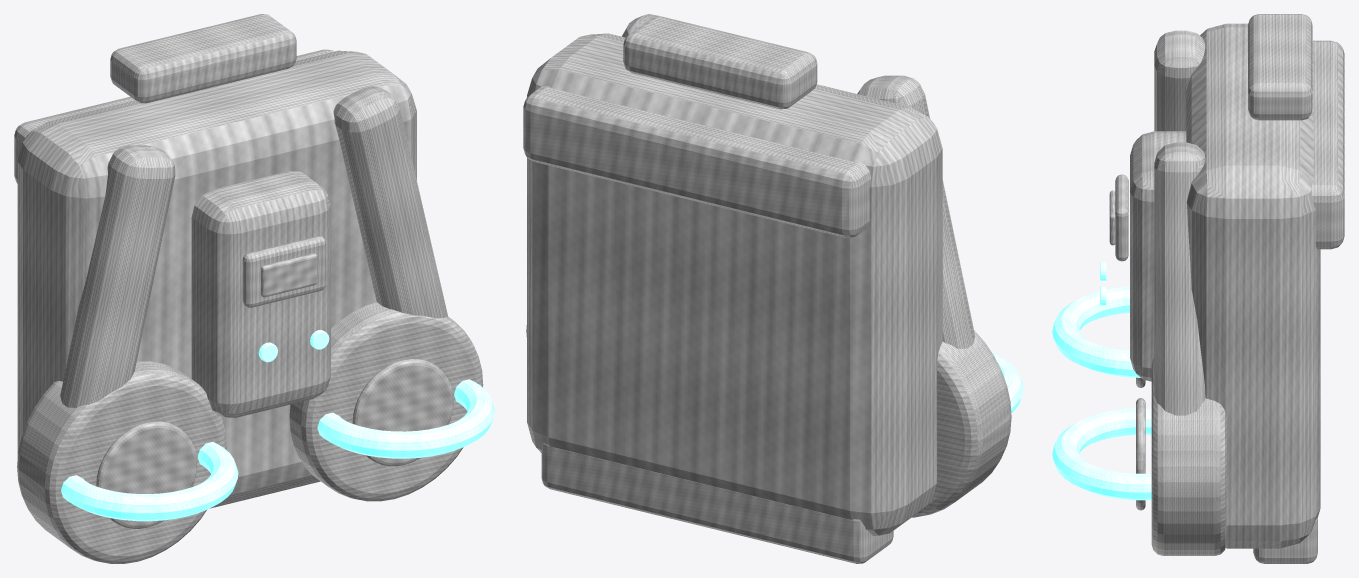
The model's file is hoverpack_variant_b.glb.
The picture shows the model from 3 angles, left to right: view 1: azimuth 30°, elevation 25°; view 2: azimuth 150°, elevation 25°; view 3: azimuth 270°, elevation 25°; orthographic projection. The views are drawn at different scales.
Parts seen in each view (by area): view 1: Armored dorsal shell, Power receiver housing.001, Recessed emitter housing, Shoulder strap.002, Recessed emitter housing.001, Shoulder strap.003, Top service handle, Emitter lens.001, Emitter lens, Emitter luminous ring, Emitter luminous ring.001, Power status display bezel.001 (+2 smaller); view 2: Armored dorsal shell, Shoulder yoke.001, Waist stabilizer.001, Top service handle, Recessed emitter housing, Shoulder strap.002, Emitter luminous ring.001; view 3: Armored dorsal shell, Recessed emitter housing.001, Shoulder strap.003, Top service handle, Shoulder yoke.001, Power receiver housing.001, Emitter luminous ring, Emitter luminous ring.001, Shoulder strap.002, Waist stabilizer.001, Power status display bezel.001, Emitter lens.001 (+1 smaller).
Part boxes in pixels (x1=…): Armored dorsal shell: x1=17, y1=50, x2=416, y2=504; Power receiver housing.001: x1=191, y1=171, x2=330, y2=417; Recessed emitter housing: x1=17, y1=361, x2=226, y2=563; Shoulder strap.002: x1=60, y1=145, x2=175, y2=407; Recessed emitter housing.001: x1=289, y1=302, x2=483, y2=501; Shoulder strap.003: x1=333, y1=86, x2=448, y2=318; Top service handle: x1=110, y1=14, x2=296, y2=103; Emitter lens.001: x1=352, y1=359, x2=453, y2=466; Emitter lens: x1=96, y1=421, x2=196, y2=528; Emitter luminous ring: x1=317, y1=379, x2=494, y2=458; Emitter luminous ring.001: x1=61, y1=442, x2=238, y2=521; Power status display bezel.001: x1=242, y1=236, x2=325, y2=307; Armored dorsal shell: x1=527, y1=33, x2=942, y2=535; Shoulder yoke.001: x1=523, y1=86, x2=870, y2=237; Waist stabilizer.001: x1=541, y1=442, x2=893, y2=563; Top service handle: x1=623, y1=16, x2=817, y2=109; Recessed emitter housing: x1=912, y1=330, x2=1011, y2=517; Shoulder strap.002: x1=857, y1=75, x2=975, y2=348; Emitter luminous ring.001: x1=992, y1=352, x2=1023, y2=413; Armored dorsal shell: x1=1186, y1=23, x2=1320, y2=548; Recessed emitter housing.001: x1=1151, y1=358, x2=1226, y2=555; Shoulder strap.003: x1=1154, y1=142, x2=1205, y2=415; Top service handle: x1=1248, y1=14, x2=1312, y2=120; Shoulder yoke.001: x1=1312, y1=40, x2=1344, y2=249; Power receiver housing.001: x1=1130, y1=131, x2=1186, y2=381; Emitter luminous ring: x1=1052, y1=408, x2=1151, y2=500; Emitter luminous ring.001: x1=1052, y1=286, x2=1140, y2=377; Shoulder strap.002: x1=1154, y1=30, x2=1205, y2=131; Waist stabilizer.001: x1=1253, y1=517, x2=1317, y2=563; Power status display bezel.001: x1=1115, y1=174, x2=1128, y2=261; Emitter lens.001: x1=1136, y1=398, x2=1145, y2=510.
Size of what is drawn, in the model's own units: 0.92 by 0.9125 by 0.545.
Materials: 8 (8 with a texture image).
